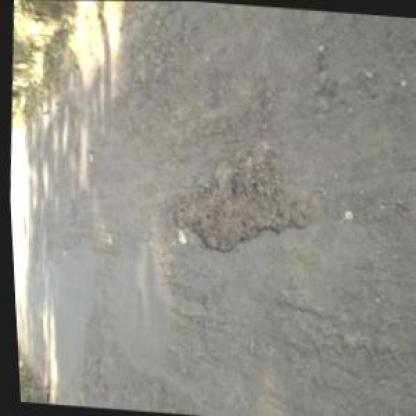pothole: (155, 132, 322, 262)
